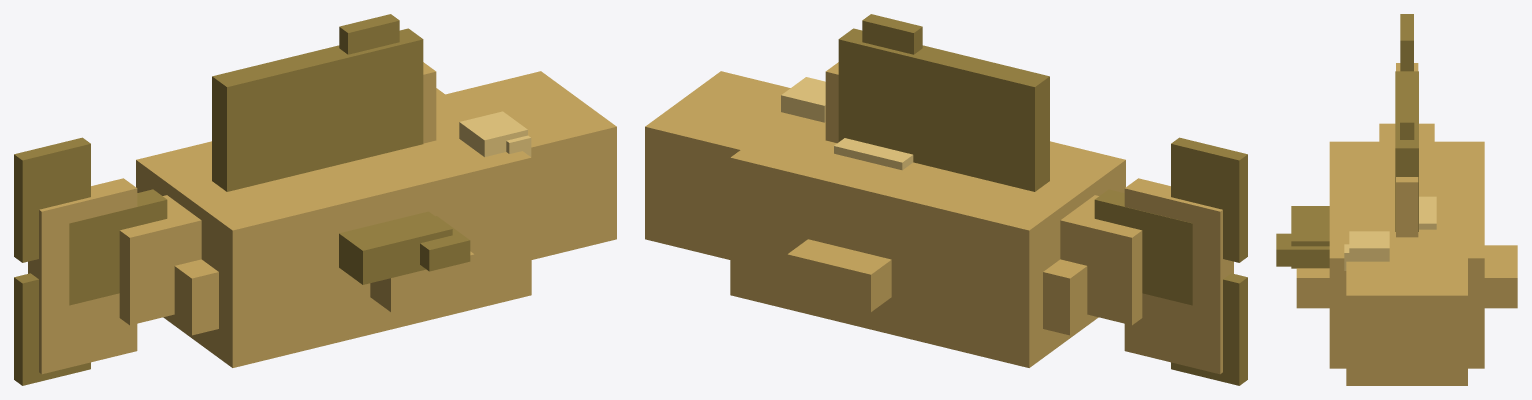
The model's file is fish_gilt_cedar.glb.
3 views of the same model, side by side, from view 1: azimuth 30°, elevation 25°; view 2: azimuth 150°, elevation 25°; view 3: azimuth 270°, elevation 25° (orthographic). The views are drawn at different scales.
Visible parts, largest first — view 1: FishArt_body, FishArt_dorsal, FishArt_tail, FishArt_pectoral, FishArt_eye; view 2: FishArt_body, FishArt_dorsal, FishArt_tail, FishArt_eye, FishArt_specialty; view 3: FishArt_body, FishArt_pectoral, FishArt_dorsal, FishArt_eye, FishArt_tail, FishArt_specialty.
Part boxes in pixels (<box>): FishArt_body: <box>28,62,616,374</box>; FishArt_dorsal: <box>212,14,423,191</box>; FishArt_tail: <box>14,137,167,385</box>; FishArt_pectoral: <box>339,211,470,284</box>; FishArt_eye: <box>459,111,531,156</box>; FishArt_body: <box>645,62,1233,374</box>; FishArt_dorsal: <box>838,14,1049,191</box>; FishArt_tail: <box>1094,137,1247,385</box>; FishArt_eye: <box>781,77,825,122</box>; FishArt_specialty: <box>834,138,913,170</box>; FishArt_body: <box>1296,63,1517,385</box>; FishArt_pectoral: <box>1276,206,1329,268</box>; FishArt_dorsal: <box>1395,71,1418,231</box>; FishArt_eye: <box>1344,231,1389,270</box>; FishArt_tail: <box>1400,14,1413,71</box>; FishArt_specialty: <box>1419,196,1436,229</box>.
Bounding box in the file's own units: 0.3091 × 0.1442 × 0.1439.
